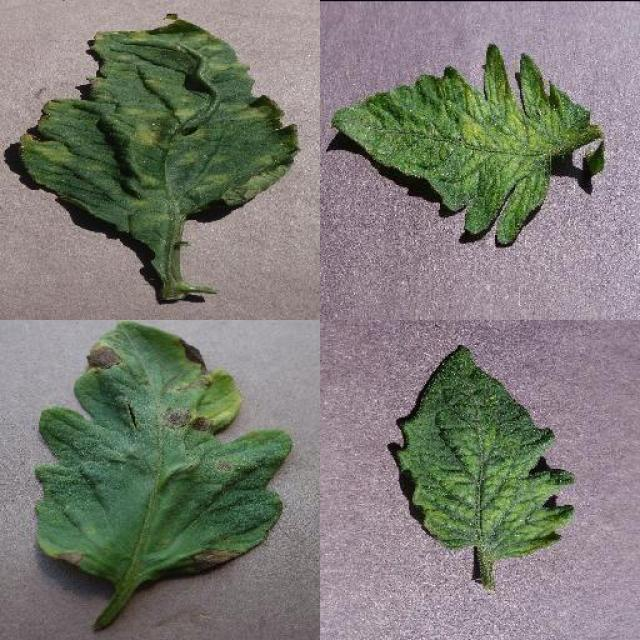Early Blight: (34, 321, 294, 585)
